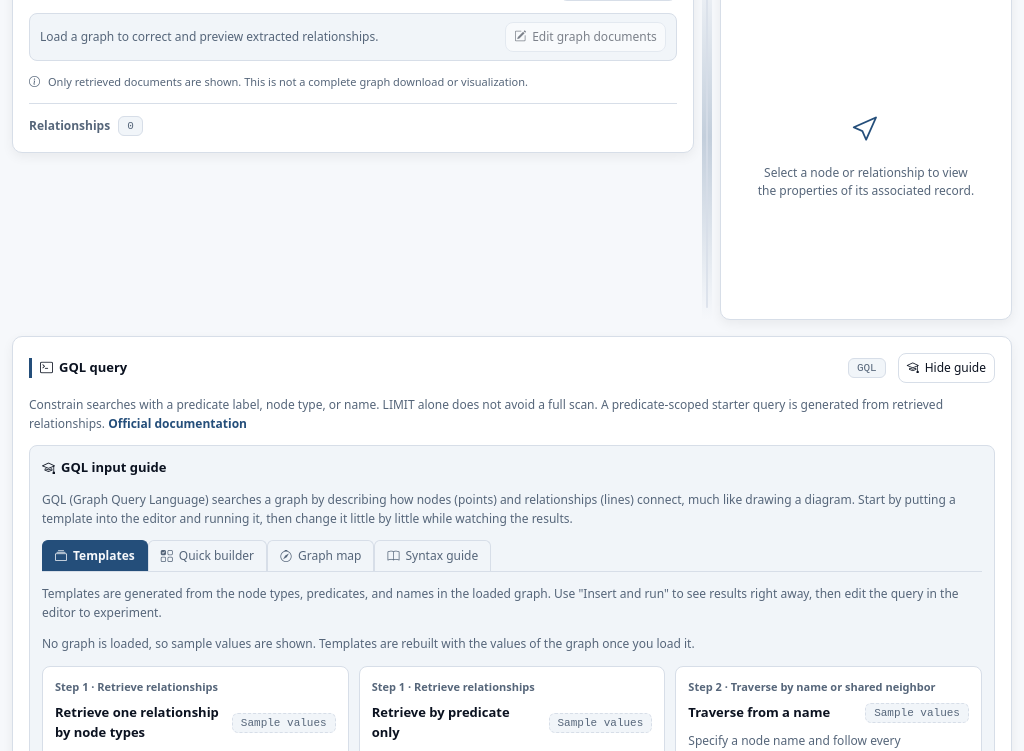
it: KnowledgeGraphPlayground controls › allows the GQL guide to be toggled when browser storage is blocked
(page scrolled)
Expected: the heading "GQL input guide" is shown, [42,458,166,476]
Click the button "Hide guide": (946, 368) [898,353,995,383]
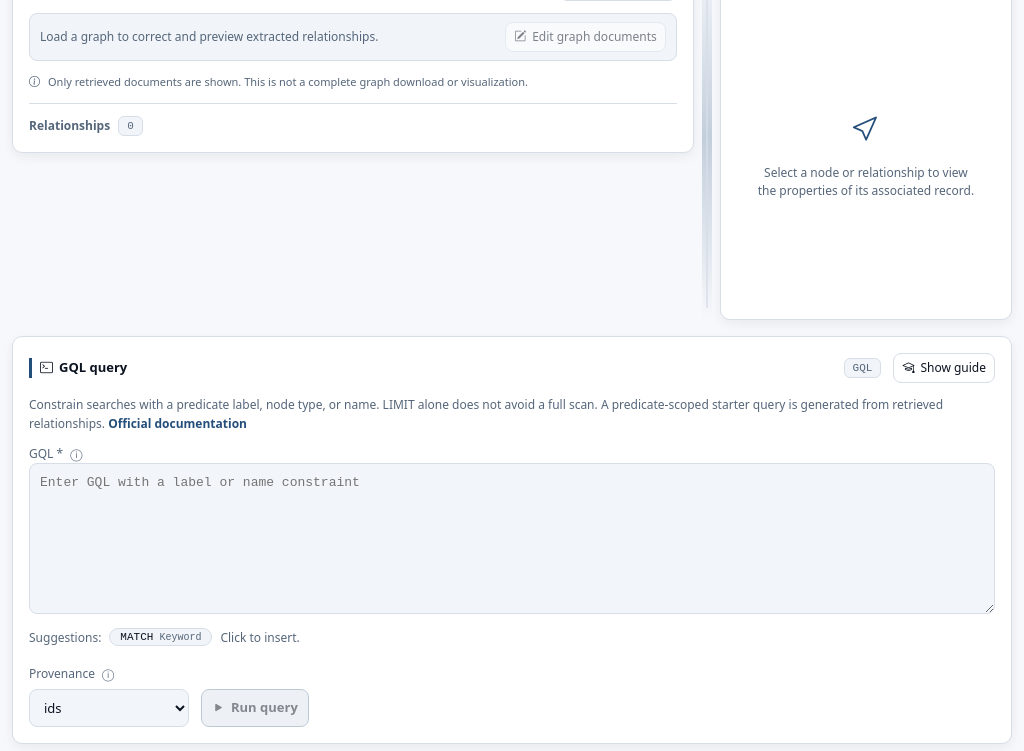
Now the button "Show guide" is shown, box [893,353,995,383]
Now the heading "GQL input guide" is gone
